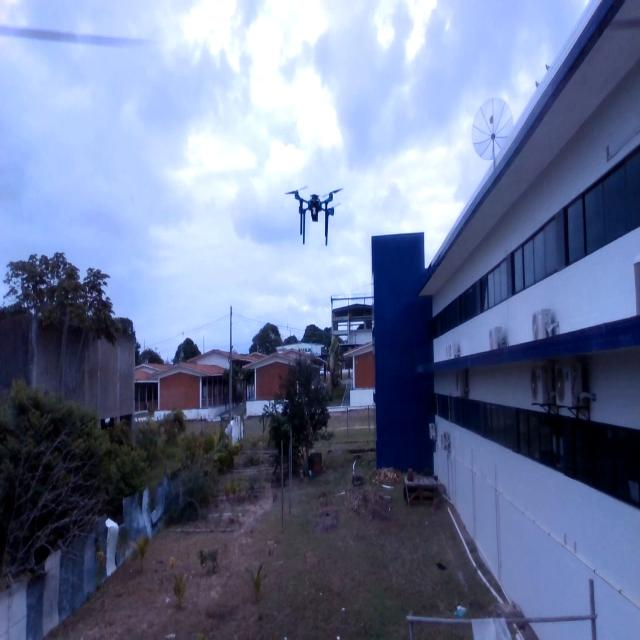-uav-: (283, 174, 347, 254)
